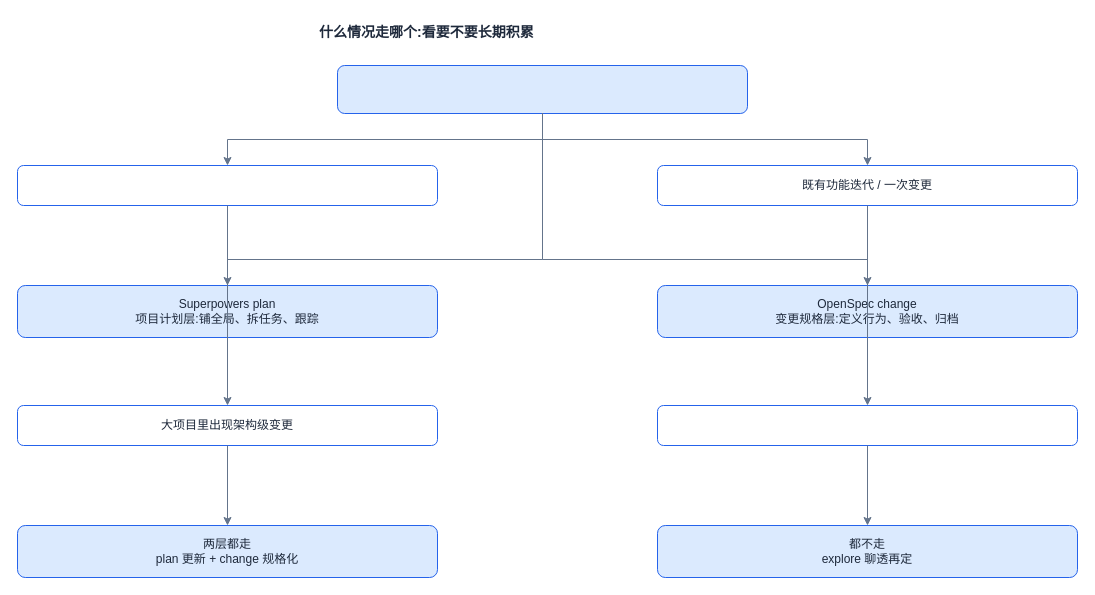
Image size: 1095x595. Some labels were removed from this diagram. The centre of each missing label's shape, as x and y in pixels:
一次性探索 / 试错: pixel 867 425
任务来了,先问:要不要长期沉淀?: pixel 542 89
有明确落地目标: pixel 227 185
